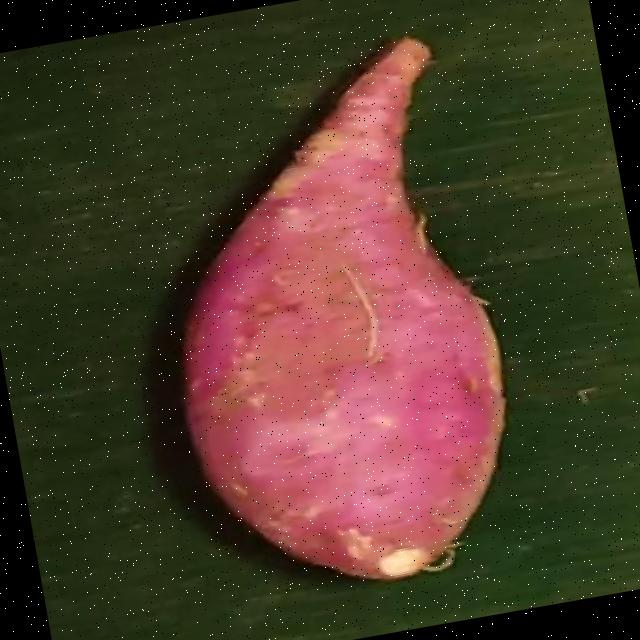Sweet Potato: (184, 33, 509, 578)
